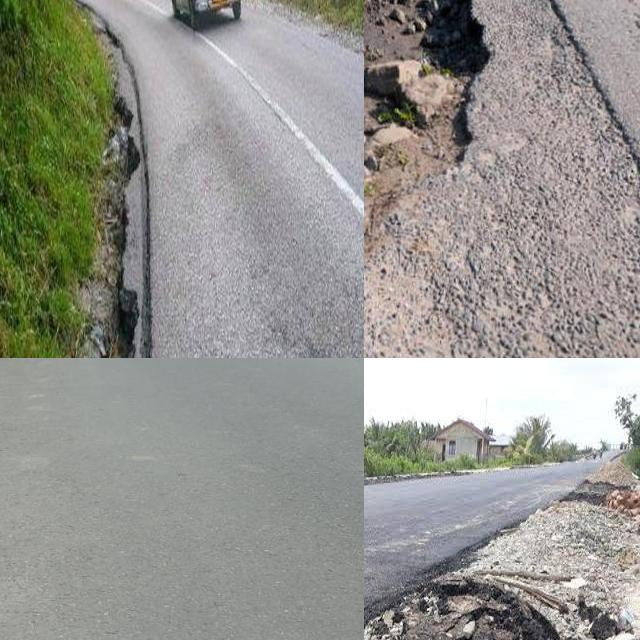Pinggir: (51, 28, 200, 358), (364, 0, 511, 258), (364, 542, 628, 640)
